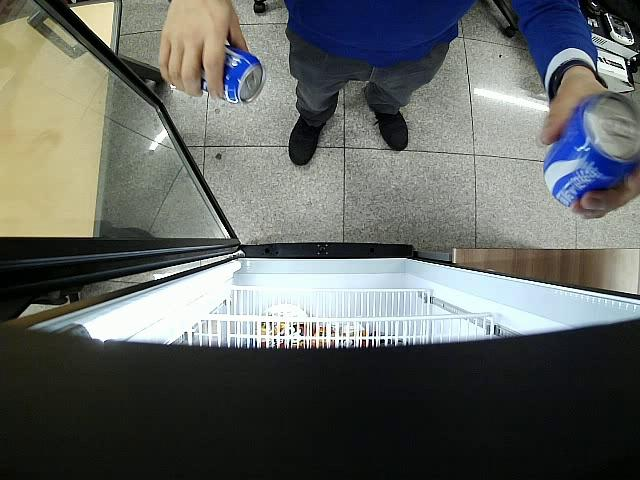00_hand: (538, 72, 638, 220), (158, 1, 249, 101)
13_pocariSweat: (542, 91, 640, 207), (201, 44, 265, 104)
